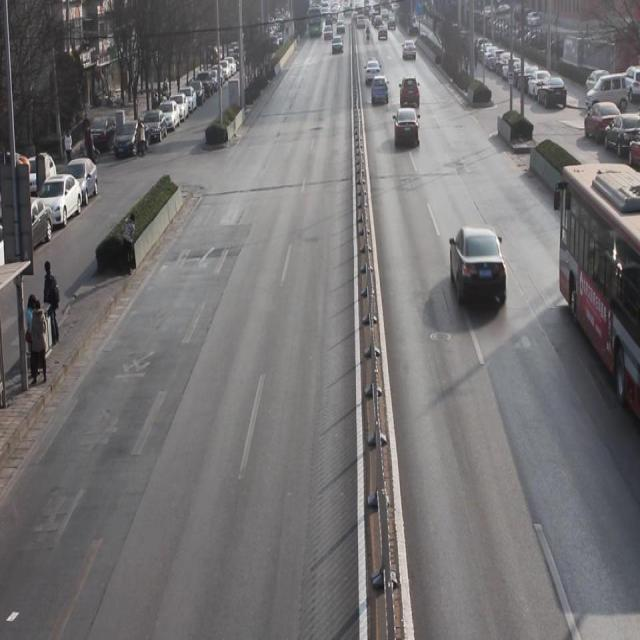car: (448, 225, 508, 310), (393, 108, 420, 150), (399, 78, 421, 107), (371, 76, 390, 108)
van: (558, 167, 640, 416)
